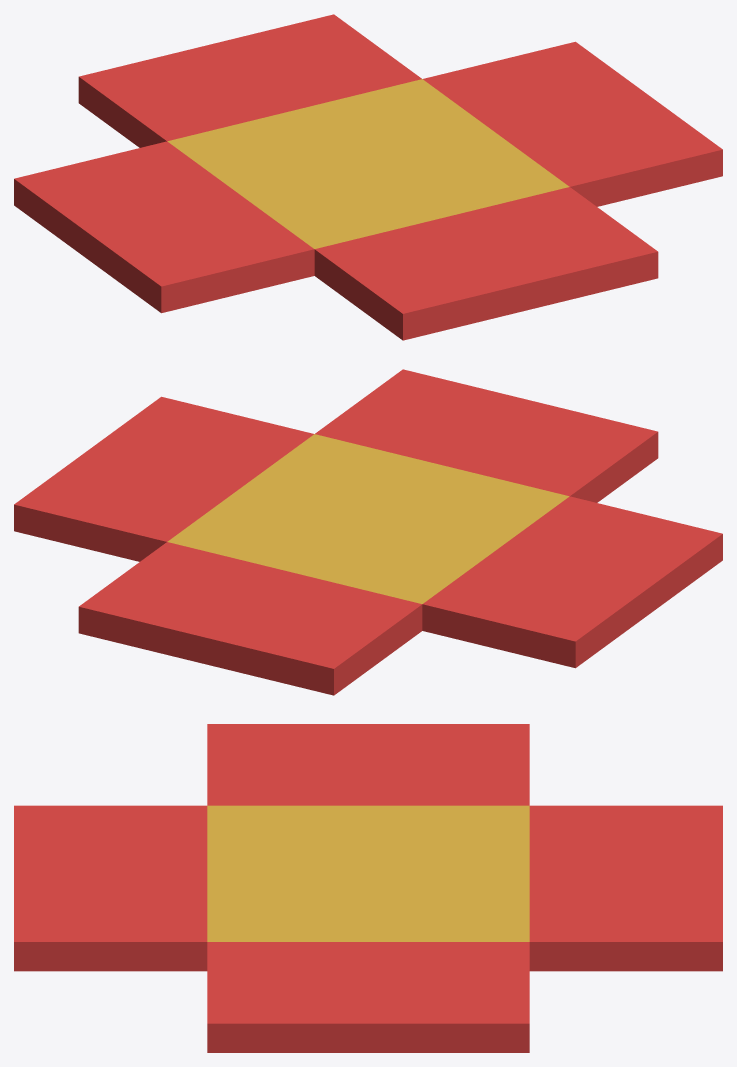
Rendered from Flower.fbx.
3 views of the same model, one above another, from view 1: azimuth 30°, elevation 25°; view 2: azimuth 150°, elevation 25°; view 3: azimuth 270°, elevation 25° (orthographic). The views are drawn at different scales.
Parts seen in each view (by area): view 1: Cube; view 2: Cube; view 3: Cube.
Part boxes in pixels (x1=…): Cube: x1=14, y1=14, x2=722, y2=340; Cube: x1=14, y1=369, x2=722, y2=695; Cube: x1=14, y1=724, x2=722, y2=1052.
Bounding box in the file's own units: 220 × 10 × 220.
